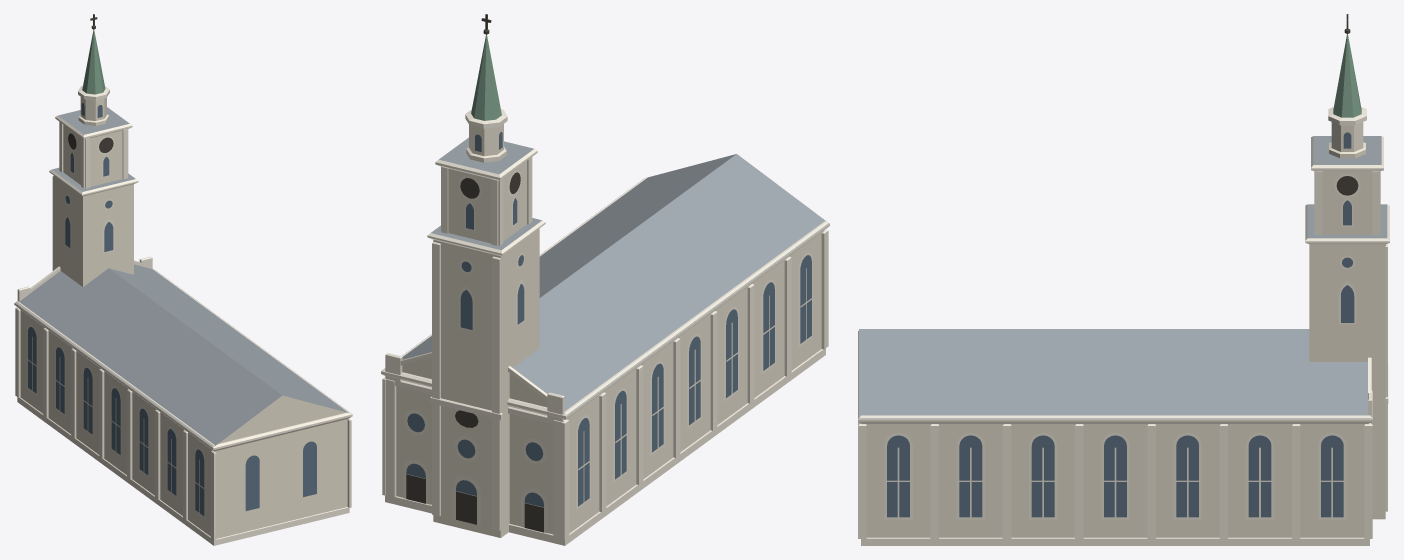
Rendered from cin-old-st-marys.glb.
The picture shows the model from 3 angles, left to right: view 1: azimuth 30°, elevation 25°; view 2: azimuth 150°, elevation 25°; view 3: azimuth 270°, elevation 25°; orthographic projection. The views are drawn at different scales.
Parts seen in each view (by area): view 1: Old St. Mary's Church; view 2: Old St. Mary's Church; view 3: Old St. Mary's Church.
Part boxes in pixels (left/top/right/bottom): Old St. Mary's Church: left=14, top=14, right=352, bottom=545; Old St. Mary's Church: left=381, top=14, right=829, bottom=545; Old St. Mary's Church: left=858, top=14, right=1389, bottom=545.
Size of the model in its own units: 21.9 by 56.7 by 55.9.
